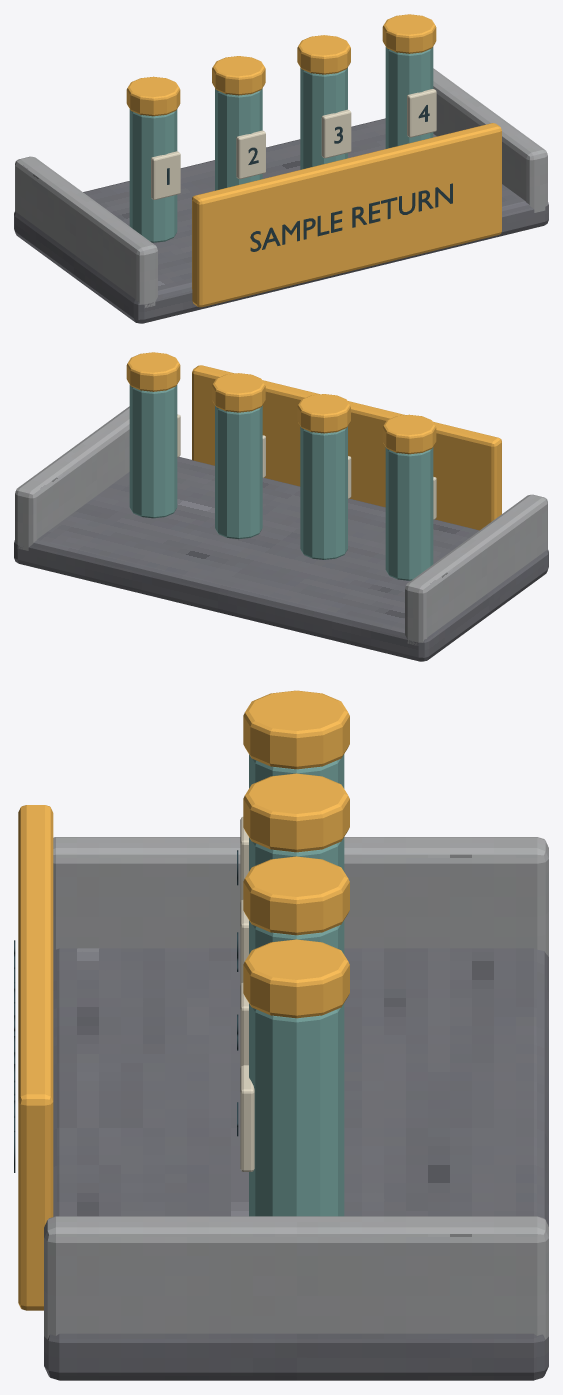
Rendered from lbd_chem_sample_return.glb.
3 renders of one model, top to bottom at view 1: azimuth 30°, elevation 25°; view 2: azimuth 150°, elevation 25°; view 3: azimuth 270°, elevation 25°, orthographic. The views are drawn at different scales.
Parts seen in each view (by area): view 1: chem_sample_return__header_044, chem_sample_return__tray_003, chem_sample_return__side_006, chem_sample_return__side_009, chem_sample_return__tube_010, chem_sample_return__tube_034, chem_sample_return__tube_026, chem_sample_return__tube_018, chem_sample_return__text_047_export, chem_sample_return__cap_035, chem_sample_return__cap_011, chem_sample_return__cap_019 (+5 smaller); view 2: chem_sample_return__tray_003, chem_sample_return__header_044, chem_sample_return__side_006, chem_sample_return__side_009, chem_sample_return__tube_034, chem_sample_return__tube_018, chem_sample_return__tube_026, chem_sample_return__tube_010, chem_sample_return__cap_035, chem_sample_return__cap_011, chem_sample_return__cap_019, chem_sample_return__cap_027; view 3: chem_sample_return__tray_003, chem_sample_return__side_009, chem_sample_return__side_006, chem_sample_return__tube_034, chem_sample_return__header_044, chem_sample_return__cap_027, chem_sample_return__cap_019, chem_sample_return__cap_011, chem_sample_return__cap_035, chem_sample_return__tube label_038, chem_sample_return__tube_026, chem_sample_return__tube_010 (+1 smaller).
Part boxes in pixels (<box>): chem_sample_return__header_044: <box>192,123,501,307</box>; chem_sample_return__tray_003: <box>14,118,548,323</box>; chem_sample_return__side_006: <box>15,156,157,307</box>; chem_sample_return__side_009: <box>433,68,547,212</box>; chem_sample_return__tube_010: <box>129,109,177,242</box>; chem_sample_return__tube_034: <box>385,47,433,148</box>; chem_sample_return__tube_026: <box>300,67,347,169</box>; chem_sample_return__tube_018: <box>215,88,262,190</box>; chem_sample_return__text_047_export: <box>250,183,452,251</box>; chem_sample_return__cap_035: <box>382,14,436,53</box>; chem_sample_return__cap_011: <box>126,76,180,116</box>; chem_sample_return__cap_019: <box>212,56,265,95</box>; chem_sample_return__tray_003: <box>14,457,548,661</box>; chem_sample_return__header_044: <box>192,365,501,530</box>; chem_sample_return__side_006: <box>405,494,547,645</box>; chem_sample_return__side_009: <box>15,406,129,550</box>; chem_sample_return__tube_034: <box>129,385,177,518</box>; chem_sample_return__tube_018: <box>300,426,347,559</box>; chem_sample_return__tube_026: <box>215,405,262,539</box>; chem_sample_return__tube_010: <box>385,447,433,580</box>; chem_sample_return__cap_035: <box>126,352,180,391</box>; chem_sample_return__cap_011: <box>382,414,436,454</box>; chem_sample_return__cap_019: <box>297,394,350,433</box>; chem_sample_return__cap_027: <box>212,373,265,412</box>; chem_sample_return__tray_003: <box>44,948,548,1380</box>; chem_sample_return__side_009: <box>44,1216,548,1339</box>; chem_sample_return__side_006: <box>53,837,548,956</box>; chem_sample_return__tube_034: <box>249,1003,344,1216</box>; chem_sample_return__header_044: <box>18,805,53,1310</box>; chem_sample_return__cap_027: <box>243,856,349,935</box>; chem_sample_return__cap_019: <box>243,773,349,852</box>; chem_sample_return__cap_011: <box>243,690,349,769</box>; chem_sample_return__cap_035: <box>243,939,349,1018</box>; chem_sample_return__tube label_038: <box>240,1065,254,1171</box>; chem_sample_return__tube_026: <box>249,920,344,954</box>; chem_sample_return__tube_010: <box>249,754,344,788</box>.
Bounding box in the file's own units: 0.68 × 0.275 × 0.3815.
6 materials, 2 textured.
